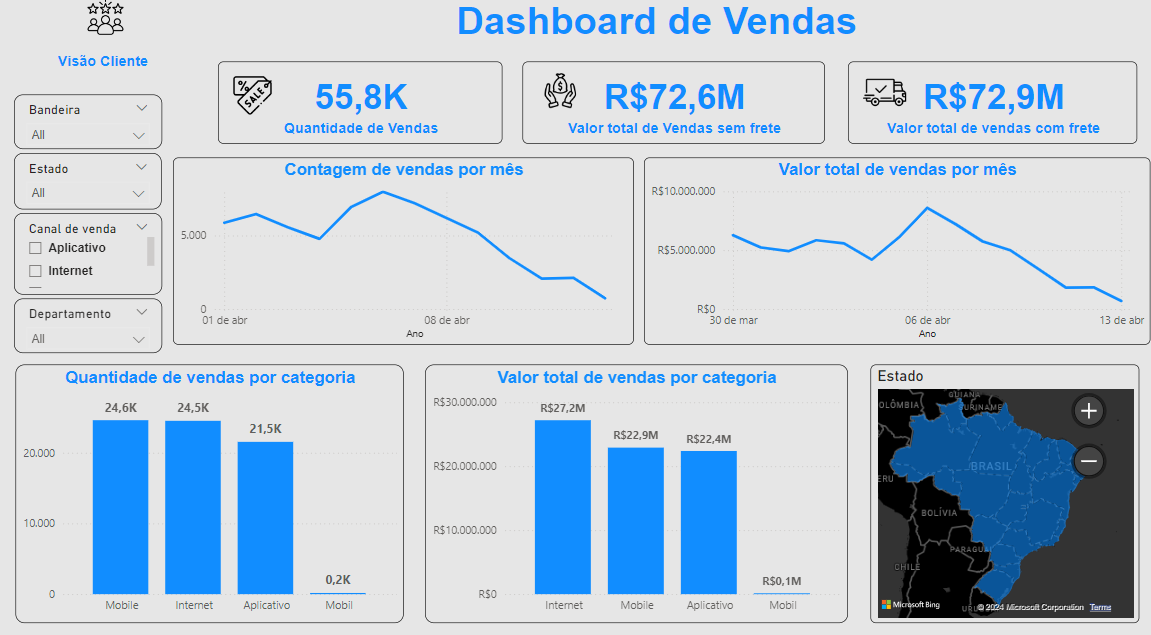

What the dashboard file says about the page in this screenshot:
{"tool":"powerbi","page":{"name":"Visão do Cliente","canvas":[1280,720],"ordinal":0},"visuals":[{"type":"card","fields":{"Values":["Count(base compra.idcompra)"]},"box":[242.9,74.3,315.7,91.4],"z":0,"group":"g2"},{"type":"filledMap","fields":{"Category":["base compra.estado"]},"box":[967.5,411.2,298.8,287.5],"z":0},{"type":"slicer","fields":{"Values":["base compra.bandeira"]},"box":[17.3,112.2,164.5,60.9],"z":1000},{"type":"slicer","fields":{"Values":["base compra.estado"]},"box":[17.1,177.2,164.3,62.9],"z":2000},{"type":"card","fields":{"Values":["Sum(base compra.Preço_com_frete)"]},"box":[942.9,74.3,321.4,91.4],"z":3000},{"type":"slicer","fields":{"Values":["base compra.idcanalvenda"]},"box":[17.3,244.1,164.5,90.9],"z":4000},{"type":"textbox","box":[38.6,41.9,154.3,66.6],"z":5000,"group":"g1"},{"type":"card","fields":{"Values":["Sum(base compra.Preço)"]},"box":[581.4,74.3,335.7,91.4],"z":5000},{"type":"slicer","fields":{"Values":["base compra.Nome_Departamento"]},"box":[17.3,339.1,164.5,60.9],"z":6000},{"type":"columnChart","title":"Quantidade de vendas por categoria","fields":{"Y":["Count(base compra.idcompra)"],"Category":["base compra.idcanalvenda"]},"box":[17.5,411.2,431.2,287.5],"z":7000},{"type":"columnChart","title":"Valor total de vendas por categoria","fields":{"Category":["base compra.idcanalvenda"],"Y":["Sum(base compra.Preço)"]},"box":[473.1,411.2,470,287.5],"z":8000},{"type":"lineChart","title":"Valor total de vendas por mês","fields":{"Y":["Sum(base compra.Preço)"],"Category":["base compra.Data.Variation.Hierarquia de datas.Ano","base compra.Data.Variation.Hierarquia de datas.Mês","base compra.Data.Variation.Hierarquia de datas.Dia"]},"box":[717,181.2,562.4,207.8],"z":9000},{"type":"lineChart","title":"Contagem de vendas por mês","fields":{"Y":["Count(base compra.idcompra)"],"Category":["base compra.Data.Variation.Hierarquia de datas.Ano","base compra.Data.Variation.Hierarquia de datas.Trimestre","base compra.Data.Variation.Hierarquia de datas.Mês","base compra.Data.Variation.Hierarquia de datas.Dia"]},"box":[193,181.2,512.2,207.8],"z":10000},{"type":"group","id":"g1","title":"Grupo 1","box":[38.6,0,154.3,108.6],"z":11000},{"type":"group","id":"g2","title":"Grupo 7","box":[242.9,74.3,315.7,91.4],"z":12000},{"type":"image","box":[91.4,0,52.9,50.4],"z":12001,"group":"g1"},{"type":"image","box":[254,83.1,53,59.2],"z":12003,"group":"g2"},{"type":"image","box":[594.3,77.1,57.1,61.4],"z":13000},{"type":"image","box":[952.9,80,61.4,58.6],"z":14000},{"type":"textbox","box":[181.4,0,1098.6,62.9],"z":15000}]}

Visuals, with their boxes in screenshot pixels (x1, y1, x2, y2), scaled from the page's 1280x720 canvas onto the 1151x635 screenshot:
card - Count(base compra.idcompra): [218,66,502,146]
filledMap - base compra.estado: [870,363,1139,616]
slicer - base compra.bandeira: [16,99,163,153]
slicer - base compra.estado: [15,156,163,212]
card - Sum(base compra.Preço_com_frete): [848,66,1137,146]
slicer - base compra.idcanalvenda: [16,215,163,295]
textbox: [35,37,173,96]
card - Sum(base compra.Preço): [523,66,825,146]
slicer - base compra.Nome_Departamento: [16,299,163,353]
"Quantidade de vendas por categoria" columnChart: [16,363,403,616]
"Valor total de vendas por categoria" columnChart: [425,363,848,616]
"Valor total de vendas por mês" lineChart: [645,160,1150,343]
"Contagem de vendas por mês" lineChart: [174,160,634,343]
"Grupo 1" group: [35,0,173,96]
"Grupo 7" group: [218,66,502,146]
image: [82,0,130,44]
image: [228,73,276,126]
image: [534,68,586,122]
image: [857,71,912,122]
textbox: [163,0,1150,55]
